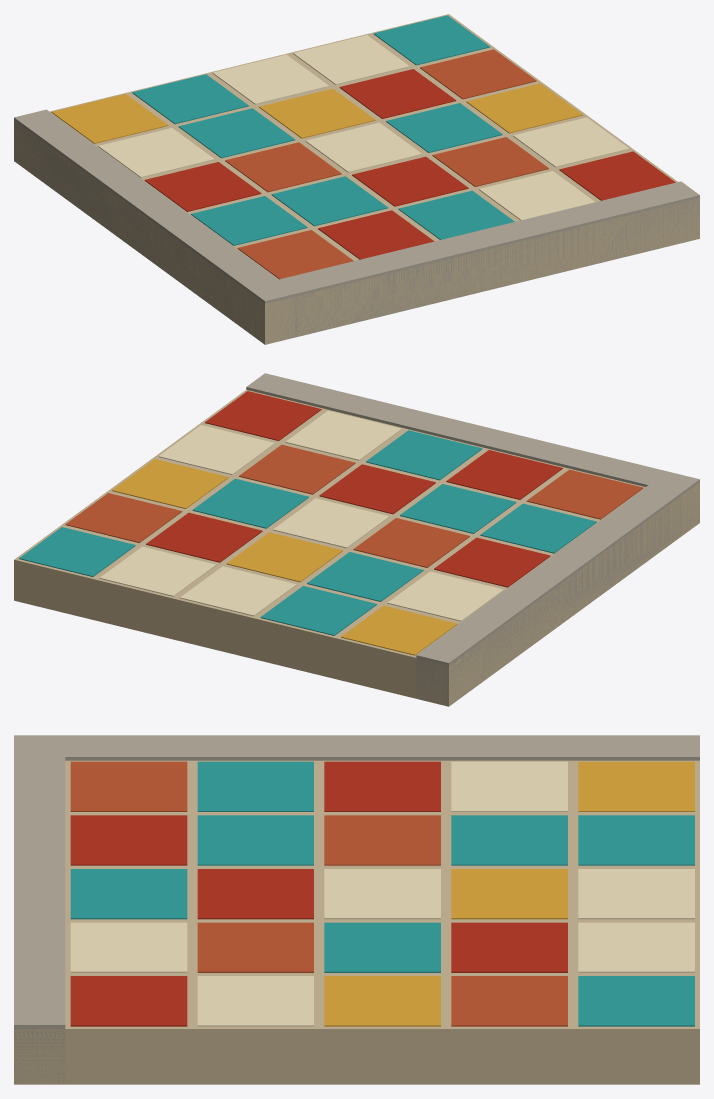
The model's file is suelo-aceras-ladrillo-acera-esquina.glb.
3 renders of one model, top to bottom at view 1: azimuth 30°, elevation 25°; view 2: azimuth 150°, elevation 25°; view 3: azimuth 270°, elevation 25°, orthographic. The views are drawn at different scales.
Parts seen in each view (by area): view 1: acera_esquina_Bordillo, acera_esquina_AceraBase, acera_esquina_BaldosaTurquesa, acera_esquina_BaldosaCrema, acera_esquina_BaldosaRoja, acera_esquina_BaldosaTerracota, acera_esquina_BaldosaMostaza; view 2: acera_esquina_AceraBase, acera_esquina_Bordillo, acera_esquina_BaldosaTurquesa, acera_esquina_BaldosaCrema, acera_esquina_BaldosaRoja, acera_esquina_BaldosaTerracota, acera_esquina_BaldosaMostaza; view 3: acera_esquina_AceraBase, acera_esquina_BaldosaTurquesa, acera_esquina_BaldosaCrema, acera_esquina_Bordillo, acera_esquina_BaldosaRoja, acera_esquina_BaldosaTerracota, acera_esquina_BaldosaMostaza.
Part boxes in pixels (x1,y1,x2,y2): acera_esquina_Bordillo: (14, 109, 699, 344); acera_esquina_AceraBase: (14, 14, 699, 344); acera_esquina_BaldosaTurquesa: (132, 15, 514, 245); acera_esquina_BaldosaCrema: (98, 35, 629, 220); acera_esquina_BaldosaRoja: (144, 69, 675, 259); acera_esquina_BaldosaTerracota: (225, 49, 548, 279); acera_esquina_BaldosaMostaza: (51, 83, 582, 143); acera_esquina_AceraBase: (14, 389, 699, 706); acera_esquina_Bordillo: (246, 373, 699, 706); acera_esquina_BaldosaTurquesa: (19, 430, 596, 635); acera_esquina_BaldosaCrema: (99, 410, 503, 621); acera_esquina_BaldosaRoja: (146, 391, 562, 587); acera_esquina_BaldosaTerracota: (65, 444, 643, 567); acera_esquina_BaldosaMostaza: (112, 459, 457, 655); acera_esquina_AceraBase: (14, 760, 699, 1084); acera_esquina_BaldosaTurquesa: (70, 761, 694, 1026); acera_esquina_BaldosaCrema: (70, 761, 694, 1026); acera_esquina_Bordillo: (14, 735, 699, 1084); acera_esquina_BaldosaRoja: (70, 761, 567, 1026); acera_esquina_BaldosaTerracota: (70, 761, 567, 1026); acera_esquina_BaldosaMostaza: (324, 761, 694, 1026).
Bounding box in the file's own units: 2 × 0.192 × 2.
